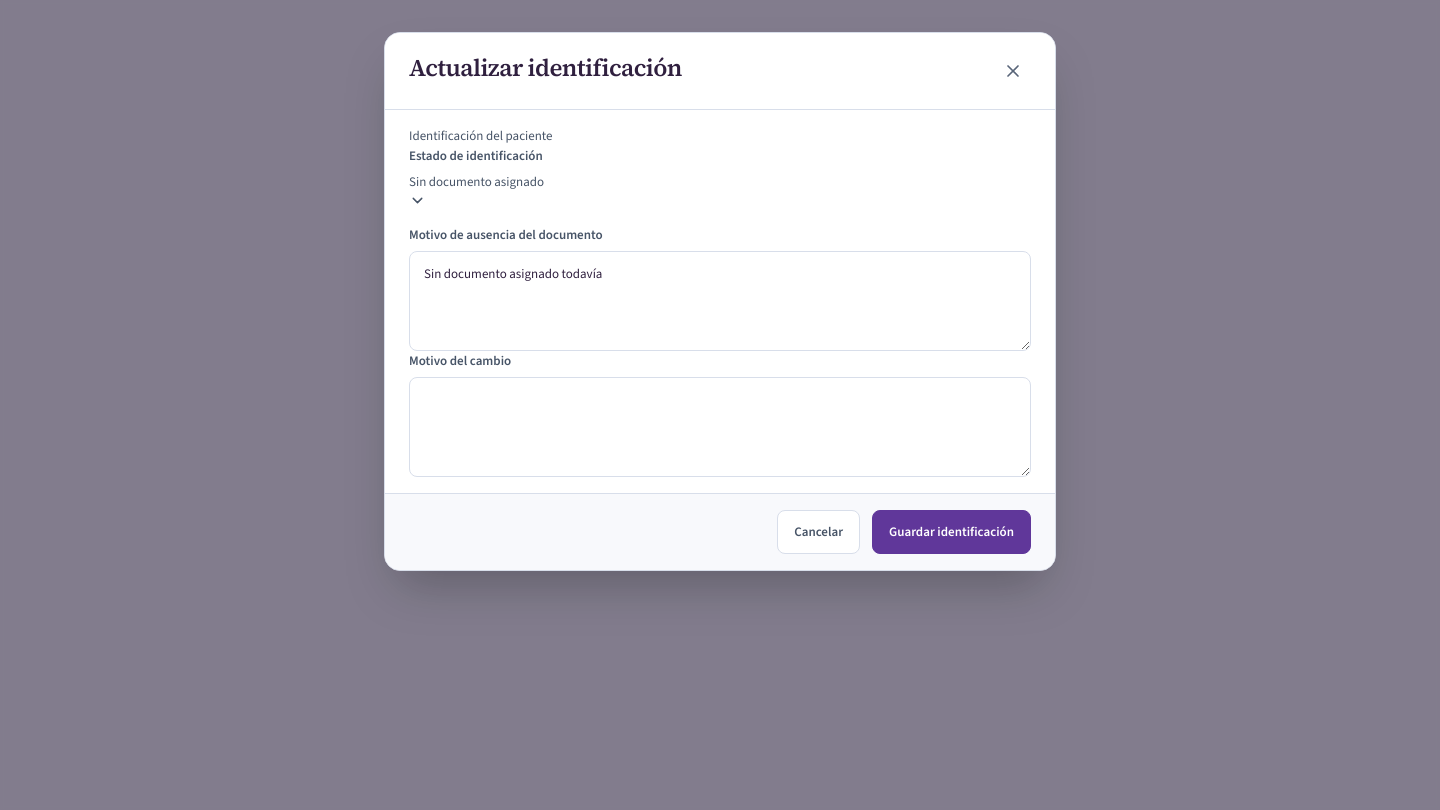
Scenario: Revisión de identidad desde ficha › conflicto de versión queda visible, sin reintento automático
The image size is (1440, 810).
Type "Motivo confirmado" into the text box labelled "Motivo del cambio". click: (720, 427)
box: [409,377,1031,477]
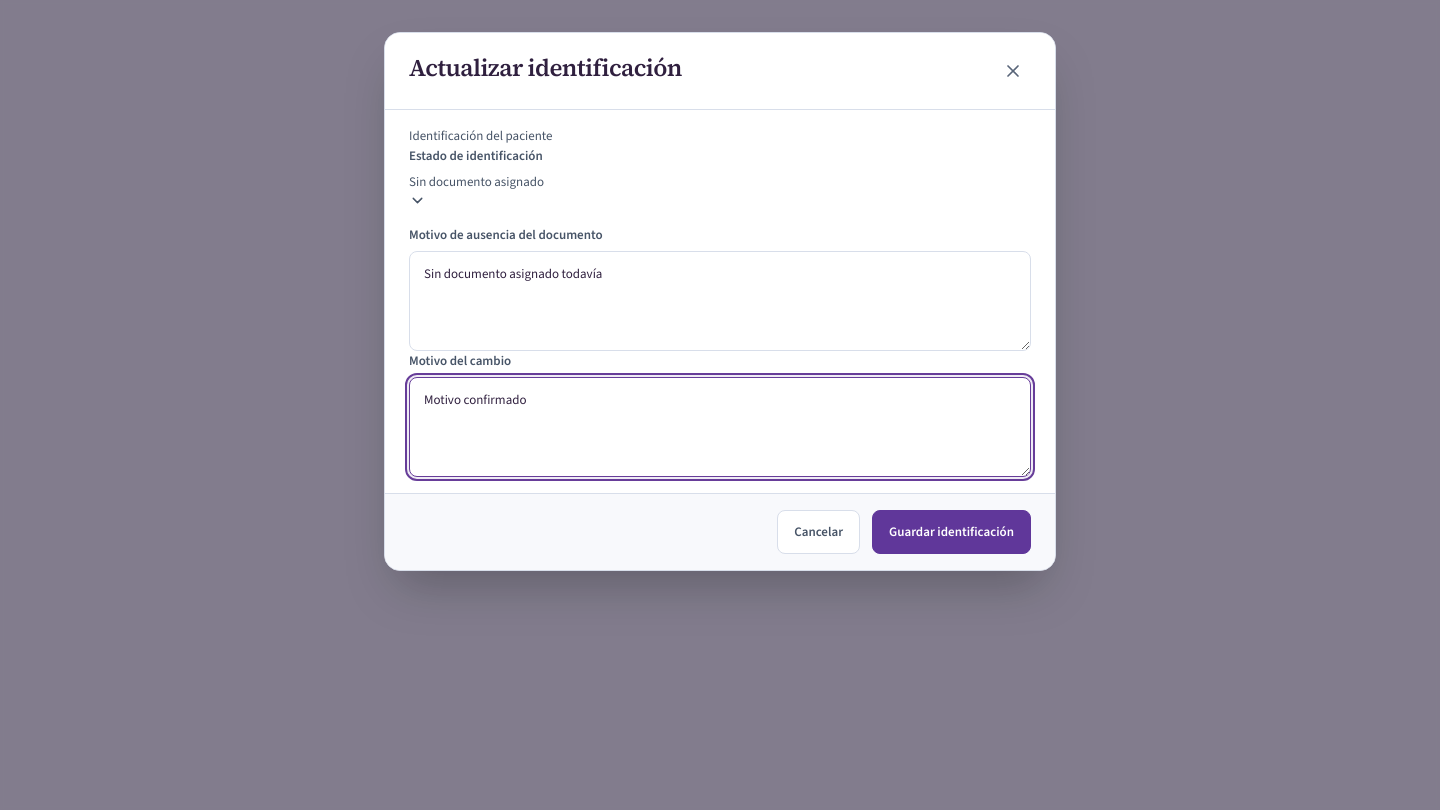
Click the button "Guardar identificación". click: (952, 532)
box: [872,510,1031,554]
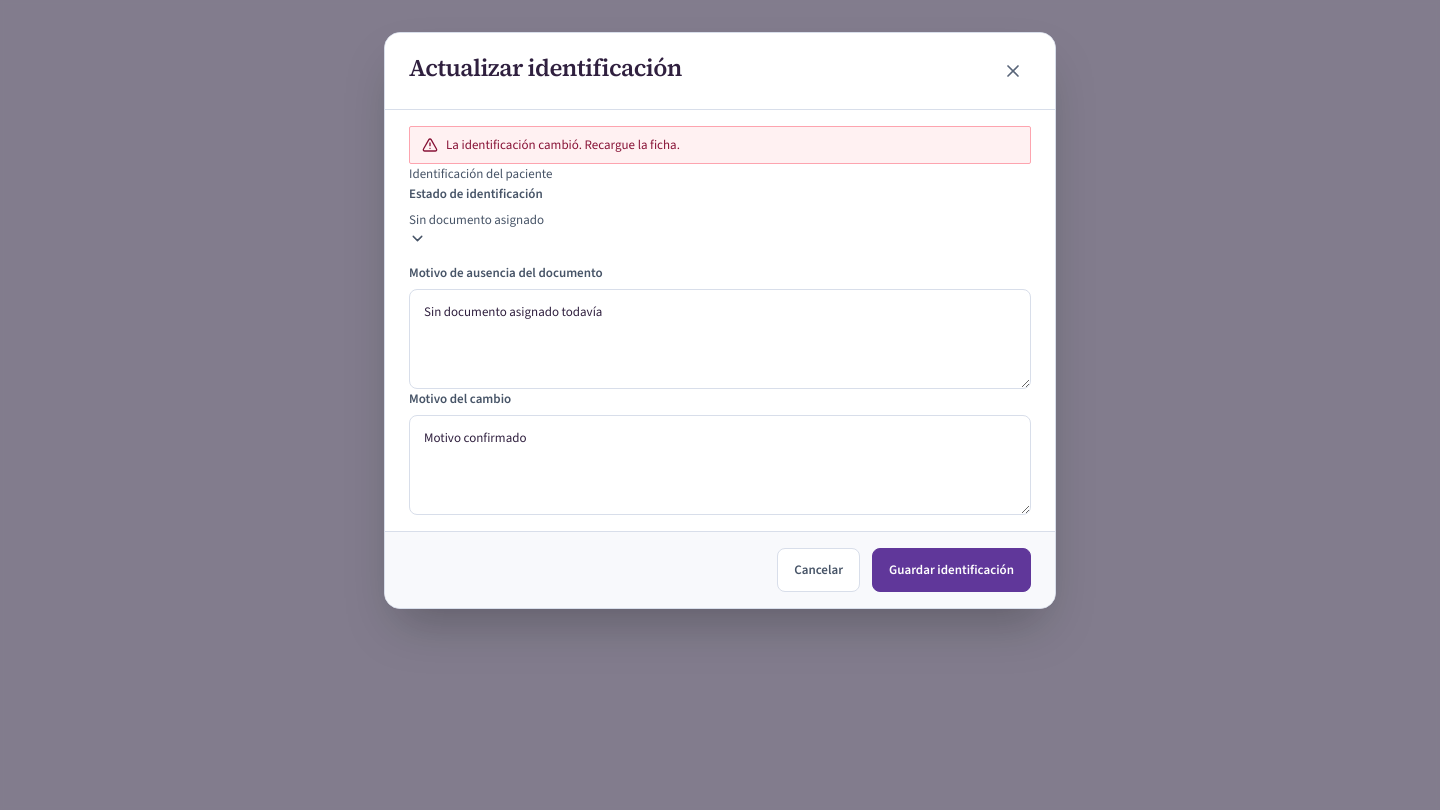
Check: the message shows "Recargue la ficha", box [446,136,680,153]
